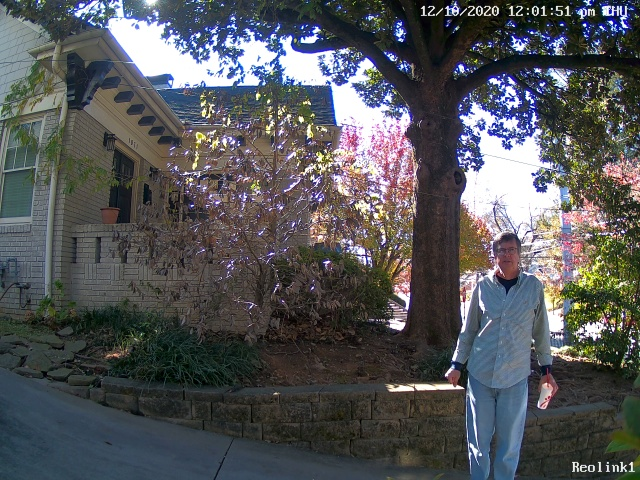person: (439, 216, 561, 478)
